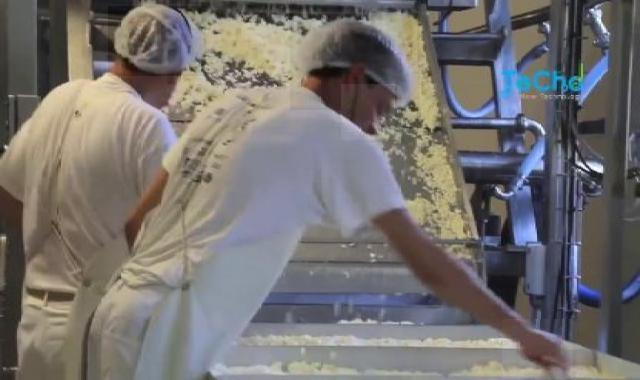gloves: (290, 14, 420, 110), (108, 6, 206, 76)
no_apron: (502, 319, 574, 380)
no_hairnet: (341, 84, 395, 140)
